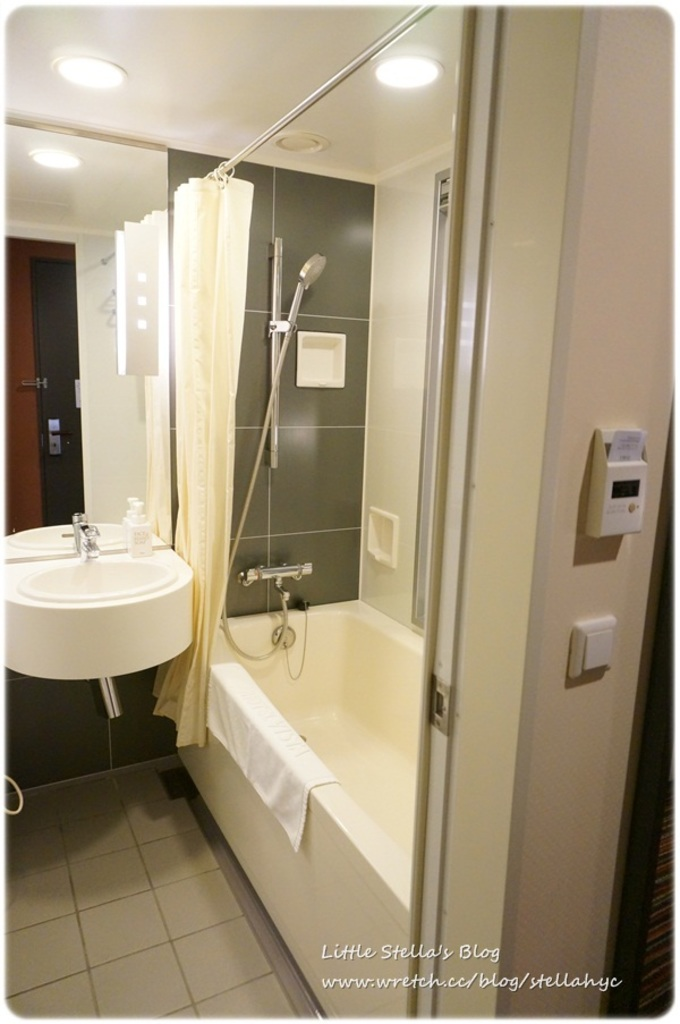tap: (61, 511, 99, 563)
